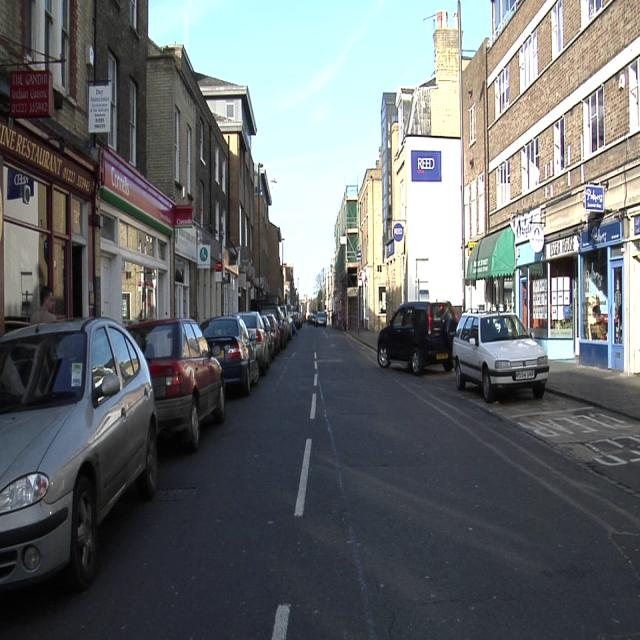Building: (332, 12, 461, 331)
Car: (0, 318, 158, 589), (129, 320, 225, 451), (452, 312, 549, 402), (378, 303, 458, 373), (201, 315, 260, 395), (239, 310, 271, 374), (315, 312, 328, 327)
Road: (0, 328, 640, 638)
